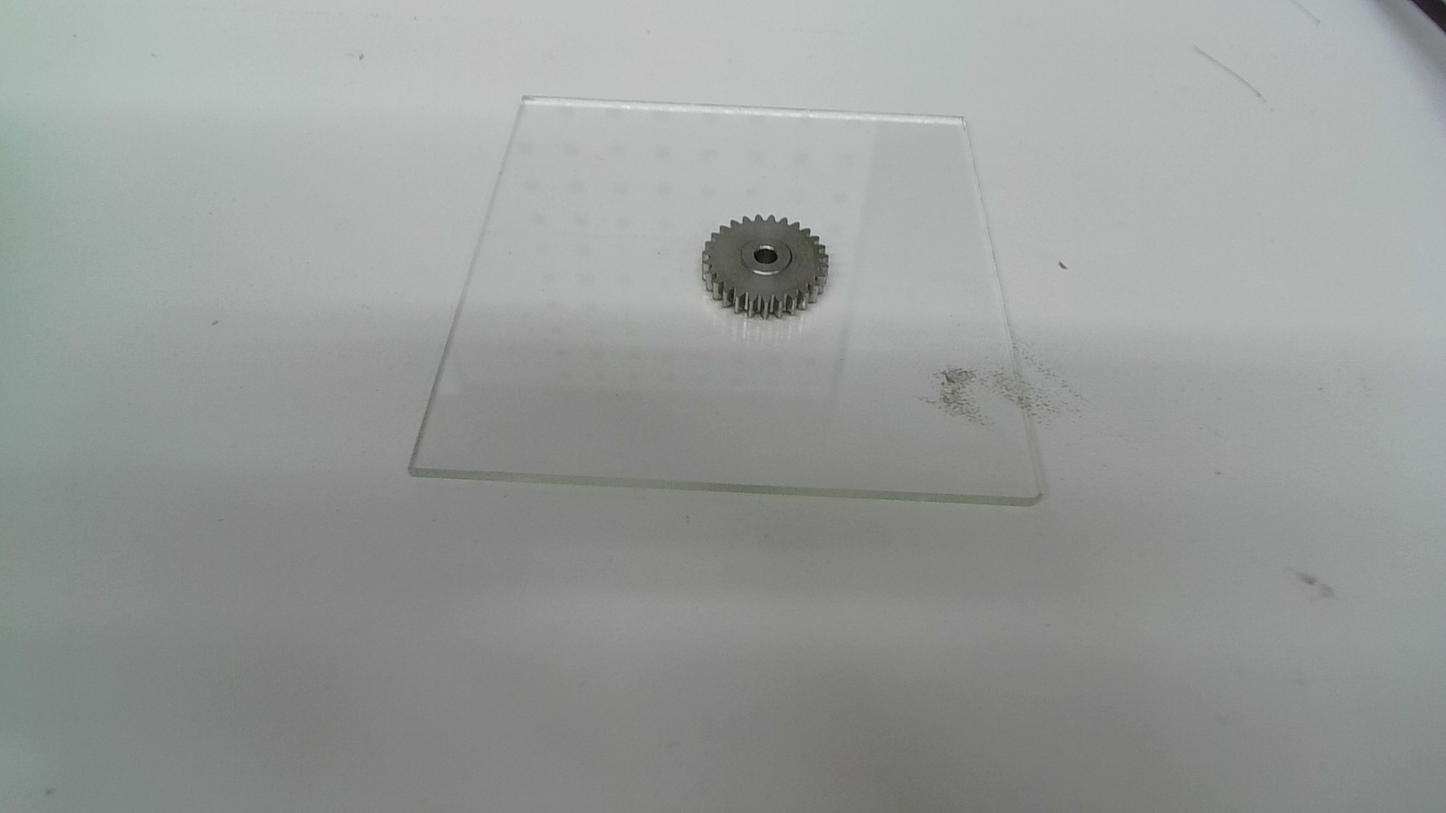gear: (700, 213, 831, 322)
